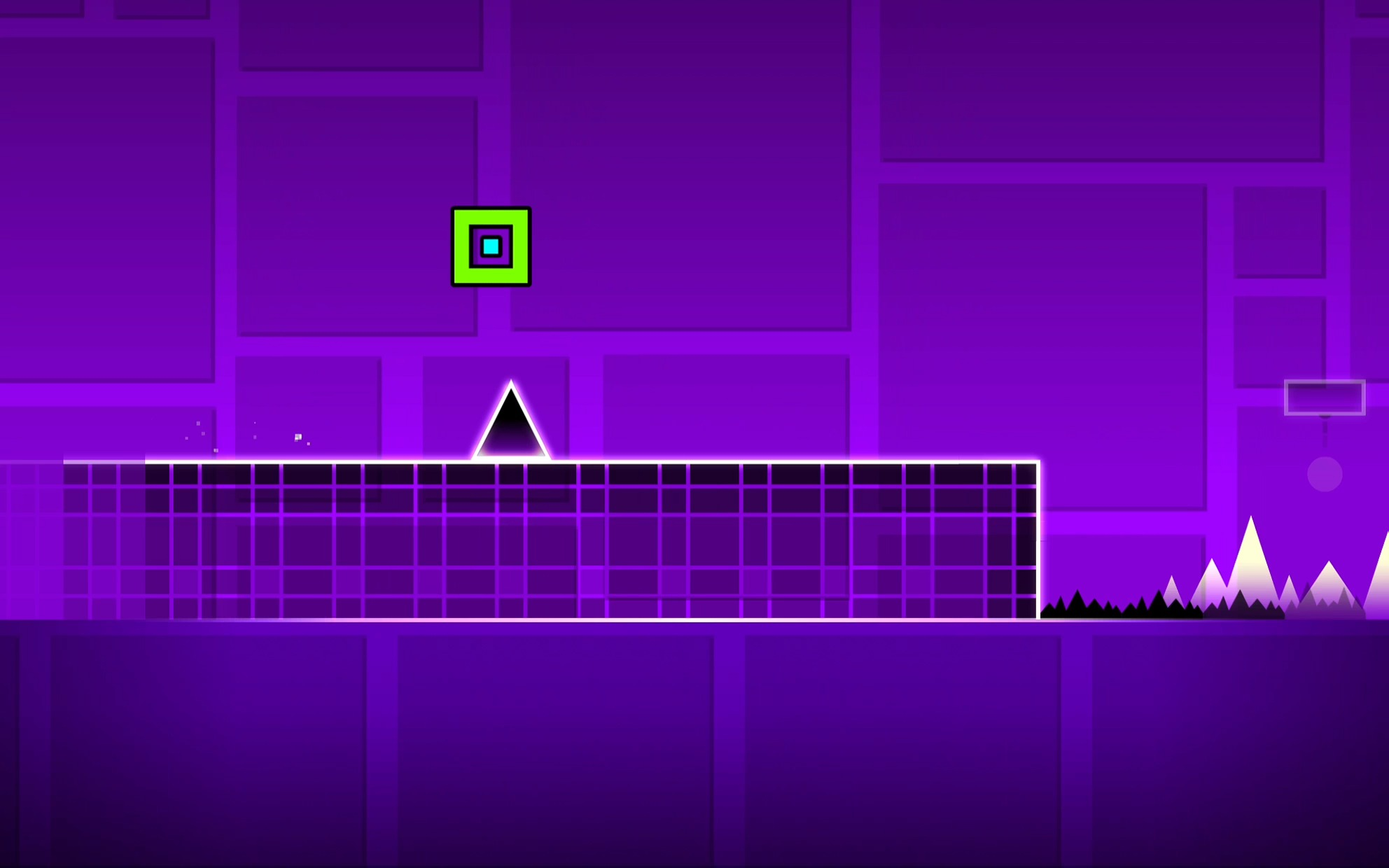Block2: (0, 456, 1028, 612)
Block3: (1285, 379, 1364, 414)
Player: (450, 207, 531, 287)
Spike: (473, 381, 547, 458)
Spike3: (1038, 582, 1389, 622)
